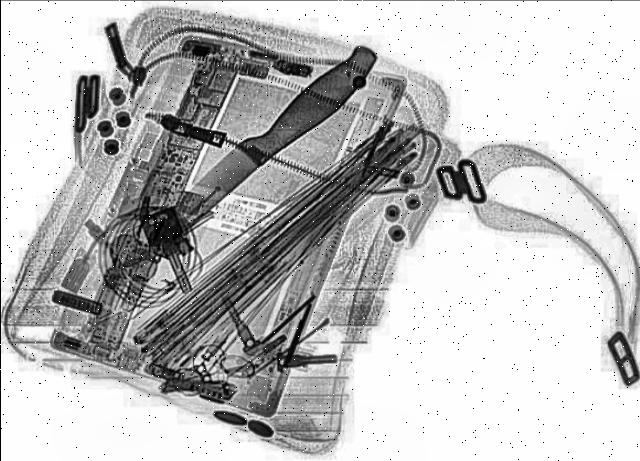Knife: (140, 41, 392, 244)
